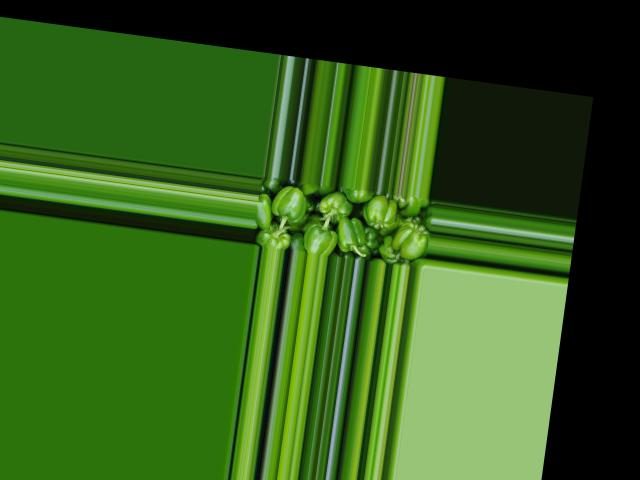bell_pepper: (254, 176, 435, 267)
